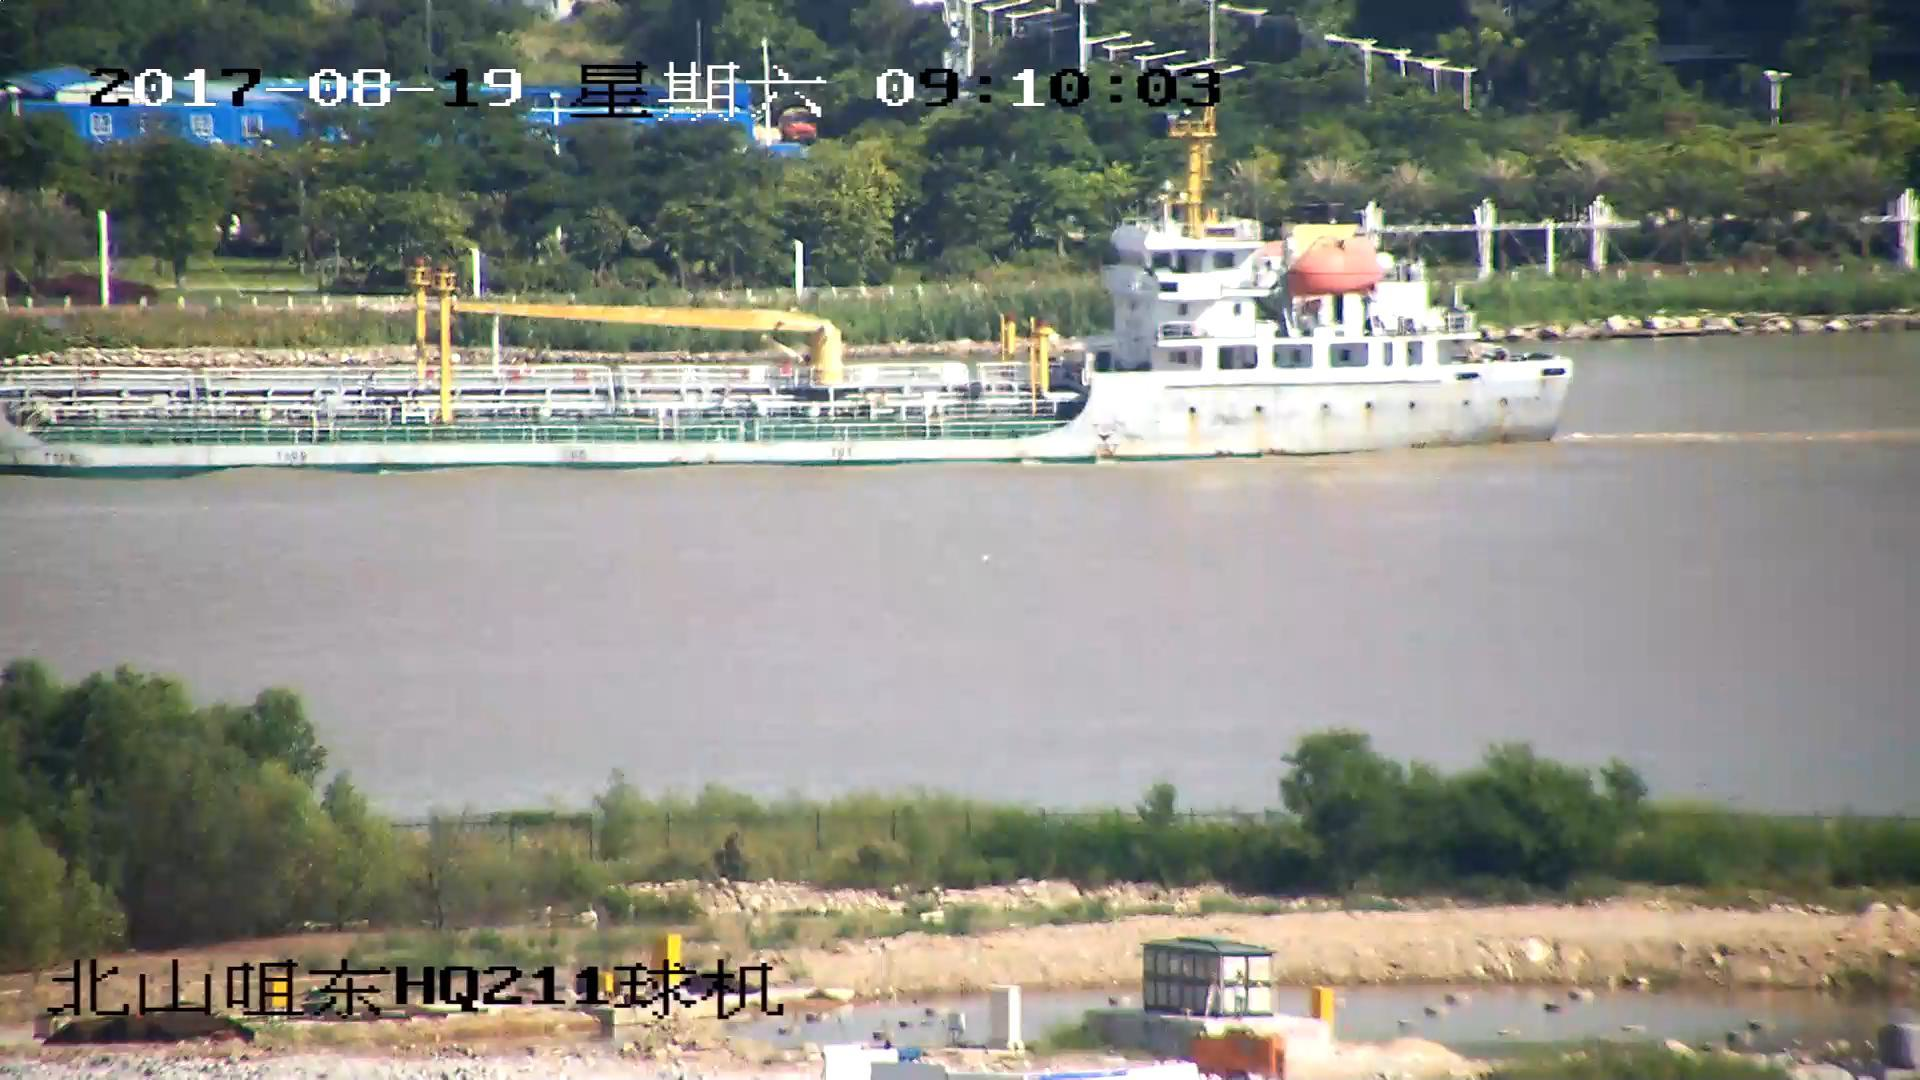Ship: (3, 119, 1580, 465)
